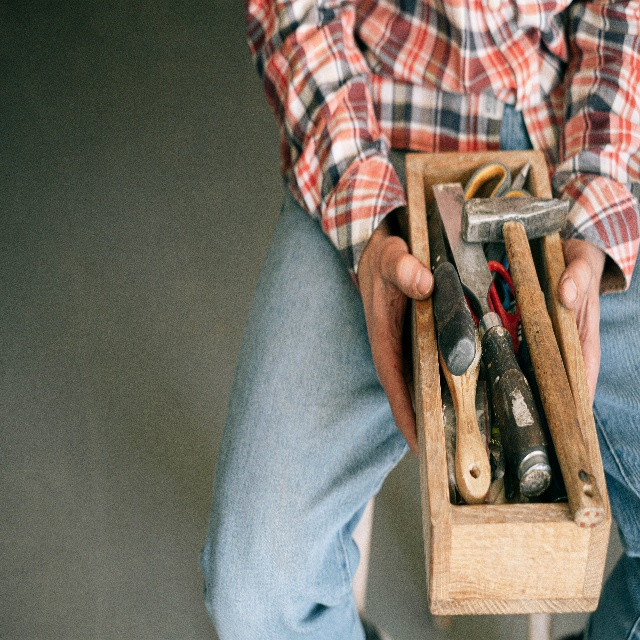Sin_guantes: (356, 229, 434, 455), (557, 236, 605, 408)
